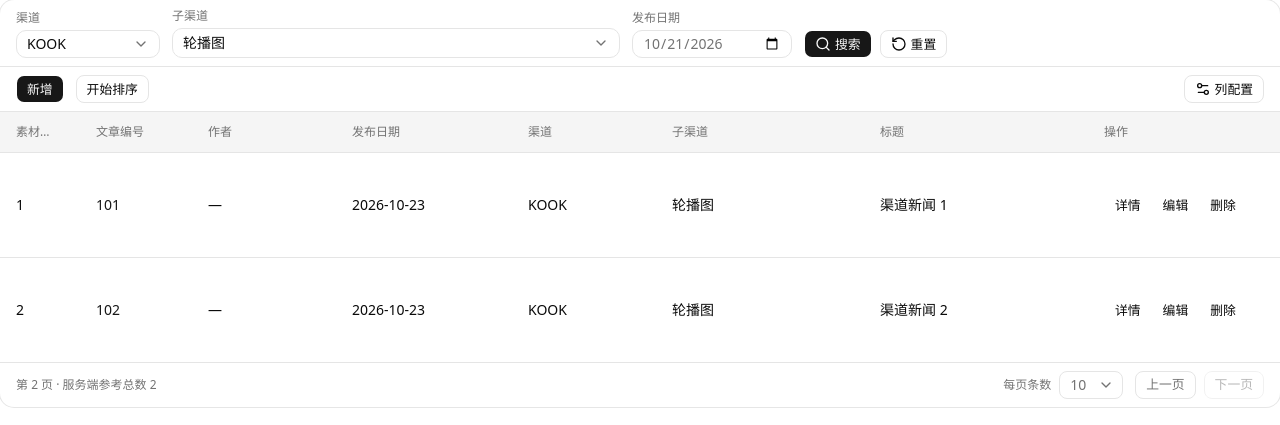
渠道素材写操作 › 未提交条件禁止排序，当前页不足两条禁止排序
The width and height of the screenshot is (1280, 425).
Expected: the button "渠道新闻 1" is shown, x1=880 y1=195 x2=1168 y2=215
Clear the date field labelled "发布日期" at point(712, 44), box x1=632 y1=30 x2=792 y2=58
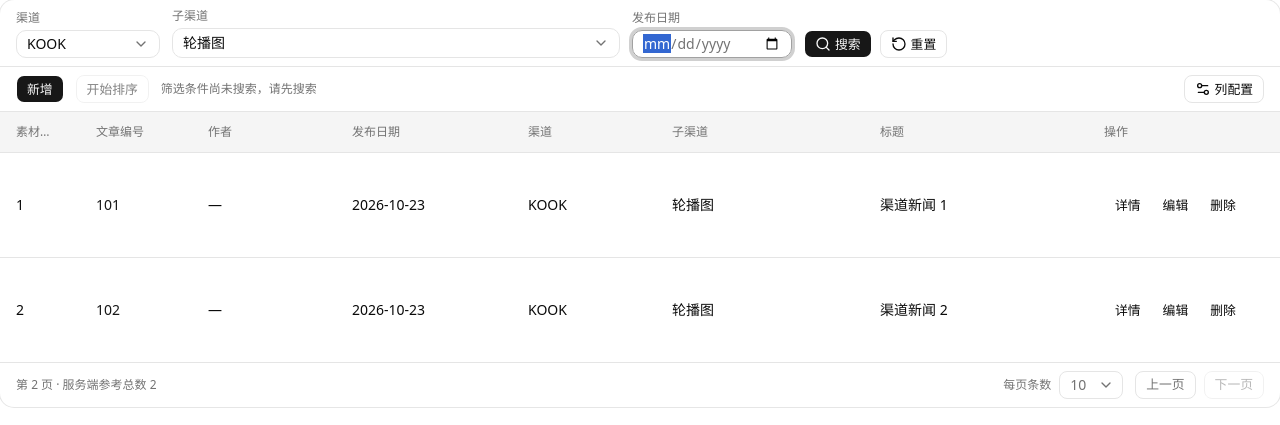
Now the button "开始排序" is disabled, box x1=76 y1=75 x2=149 y2=103
Type "2026-10-22" into the date field labelled "发布日期" at point(712, 44), box x1=632 y1=30 x2=792 y2=58
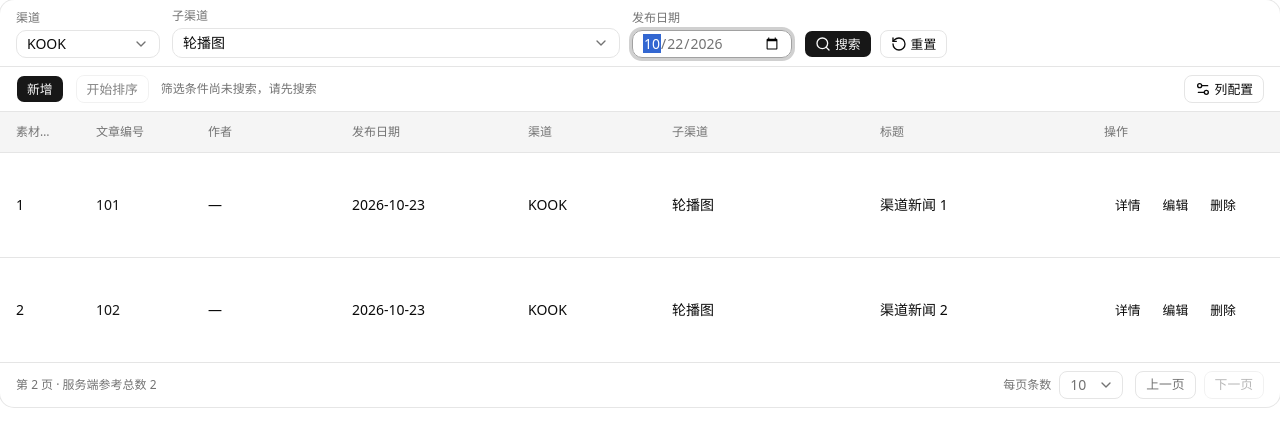
Click the button "搜索" at point(838, 44), box x1=804 y1=30 x2=872 y2=58
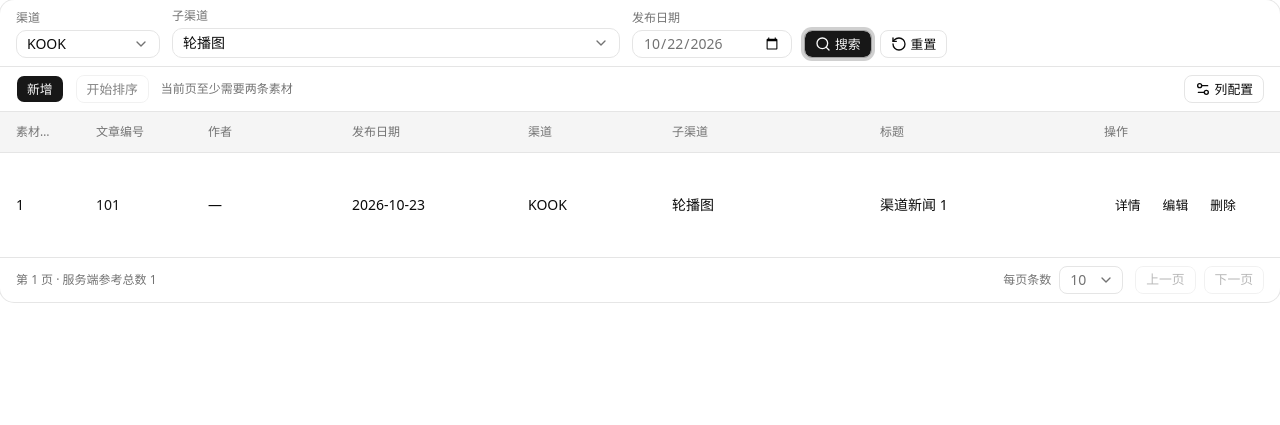
Now the text "当前页至少需要两条素材" is shown, box x1=161 y1=81 x2=293 y2=97
